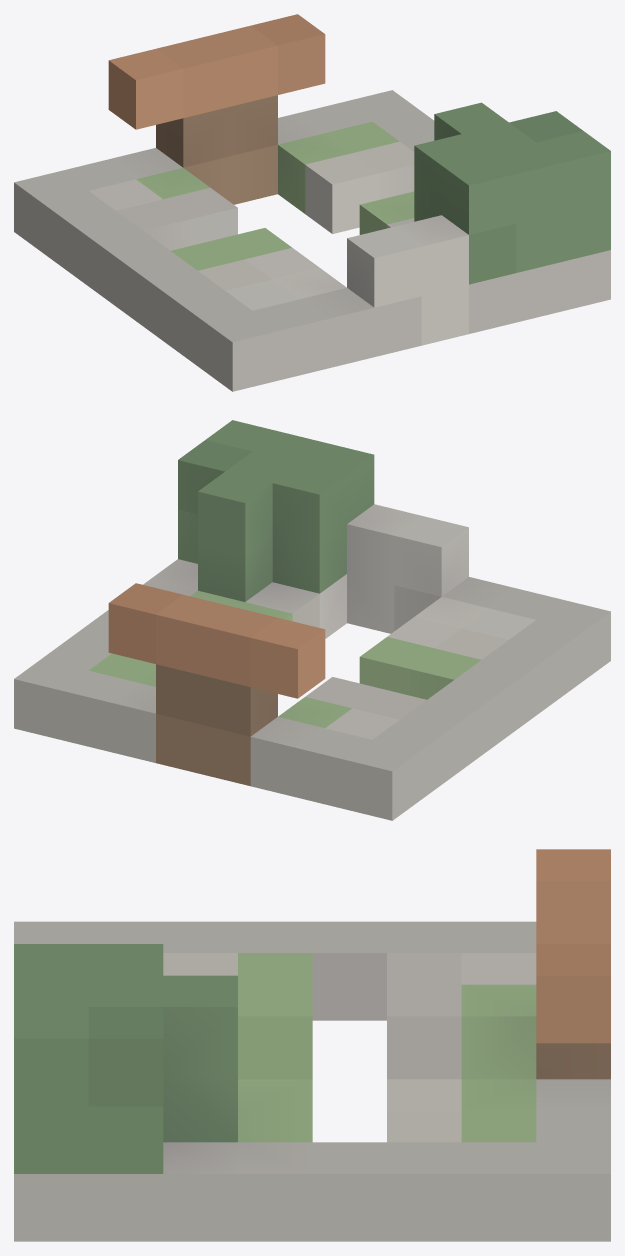
The model's file is cemetery.lite.glb.
3 views of the same model, one above another, from view 1: azimuth 30°, elevation 25°; view 2: azimuth 150°, elevation 25°; view 3: azimuth 270°, elevation 25° (orthographic). The views are drawn at different scales.
Visible parts, largest first — view 1: cemetery; view 2: cemetery; view 3: cemetery.
Part boxes in pixels (box(x1,y1,x2,y2)): cemetery: box(14, 14, 610, 391); cemetery: box(14, 420, 610, 820); cemetery: box(14, 849, 610, 1241).
Size of the model in its own units: 4 by 1.5 by 4.
